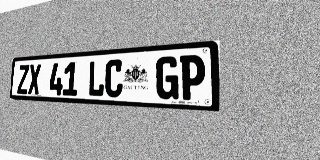1: (63, 62, 78, 96)
4: (49, 63, 64, 95)
C: (104, 59, 123, 98)
G: (155, 56, 179, 100)
L: (88, 60, 105, 97)
P: (179, 54, 205, 101)
X: (28, 64, 41, 95)
Z: (17, 65, 29, 94)
